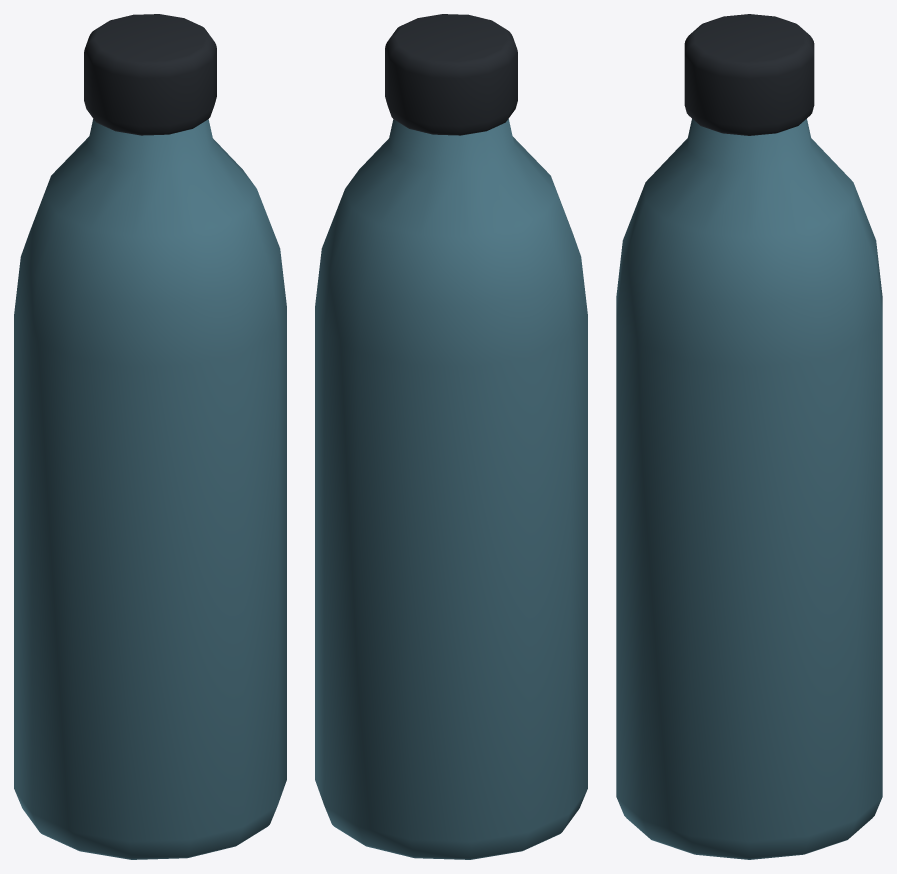
Rendered from Bottle_Rum.fbx.
3 views of the same model, side by side, from view 1: azimuth 30°, elevation 25°; view 2: azimuth 150°, elevation 25°; view 3: azimuth 270°, elevation 25° (orthographic).
Parts seen in each view (by area): view 1: Rum_Glass, Rum_Cap; view 2: Rum_Glass, Rum_Cap; view 3: Rum_Glass, Rum_Cap.
Part boxes in pixels (x1,y1,x2,y2): Rum_Glass: (14, 119, 286, 859); Rum_Cap: (84, 14, 216, 135); Rum_Glass: (315, 119, 587, 859); Rum_Cap: (385, 14, 517, 135); Rum_Glass: (616, 119, 882, 859); Rum_Cap: (684, 14, 814, 135).
Size of the model in its own units: 0.082 by 0.255 by 0.0799.
